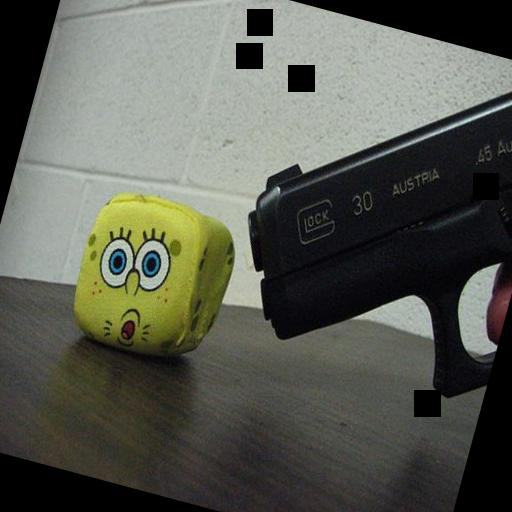Handgun: (213, 3, 512, 404)
